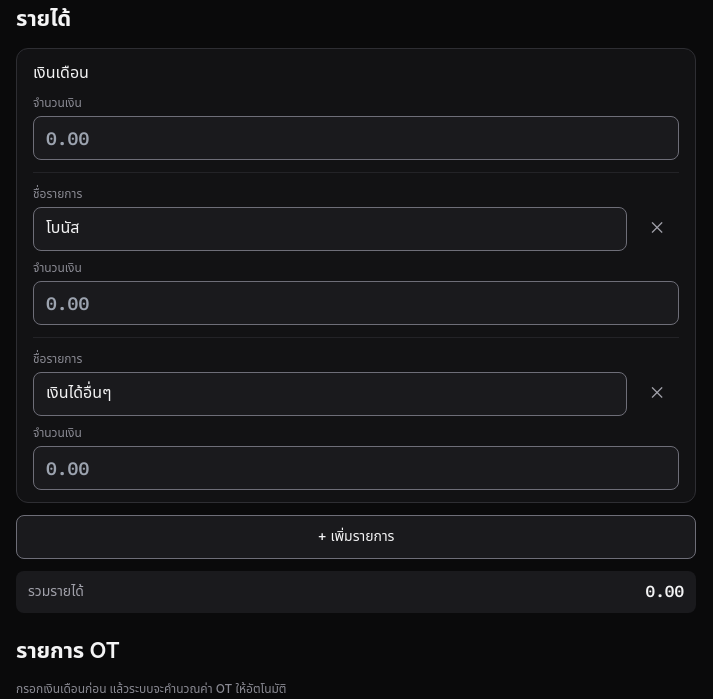
SalaryCalculator › 9. K12: add-row default labels are non-empty; the new row is scrolled and focused
Click the button "+ เพิ่มรายการ".
click(356, 537)  # box x1=16 y1=515 x2=696 y2=559
(page scrolled)
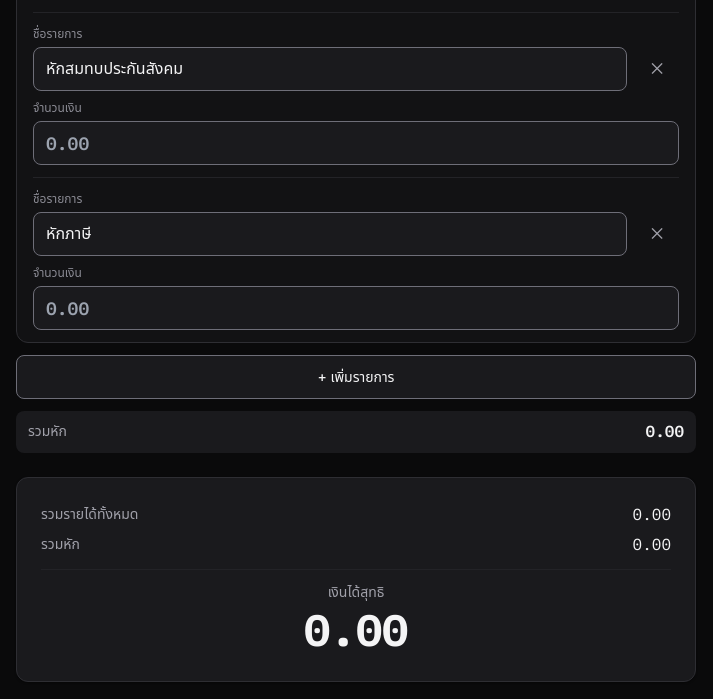
Click the button "+ เพิ่มรายการ".
click(356, 377)  # box x1=16 y1=355 x2=696 y2=399
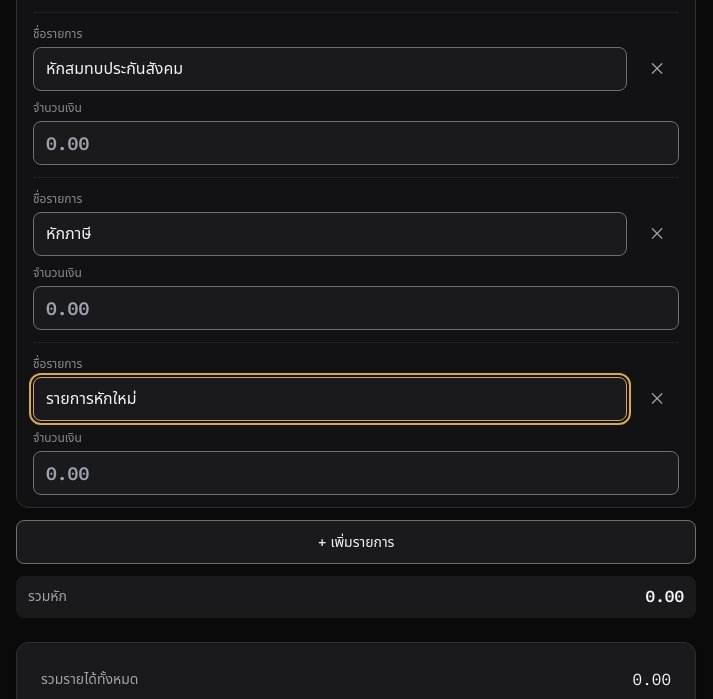
Now the number of fields showing "รายการหักใหม่" is 1, box x1=33 y1=377 x2=627 y2=421
